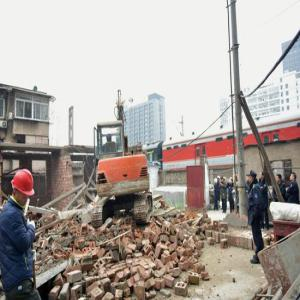none: (249, 170, 257, 184), (276, 173, 282, 185), (290, 173, 297, 183), (260, 171, 266, 182), (221, 177, 225, 183)
red: (10, 168, 37, 208)
